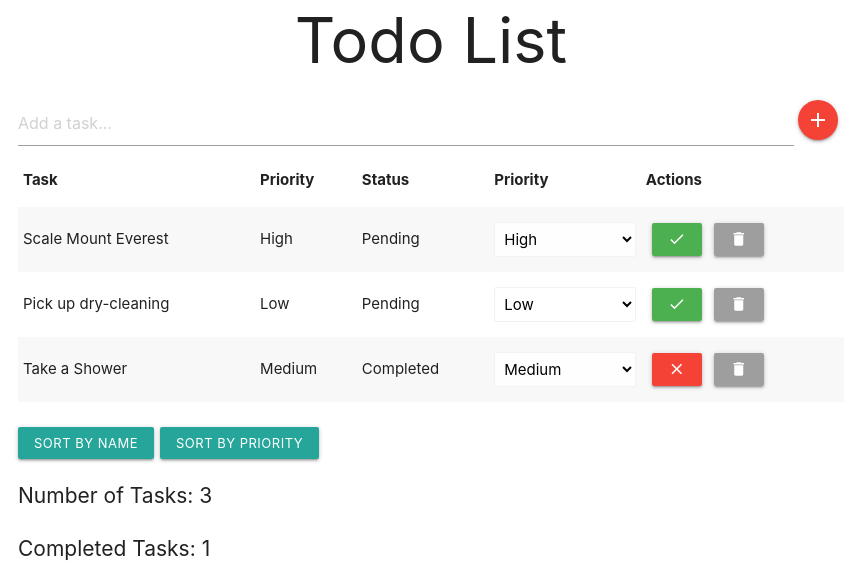
Scenario: App › should remove the correct item from the list when a task is deleted
Step 1. Click the button with id "delete-item" → [739, 240], box [714,223,764,256]
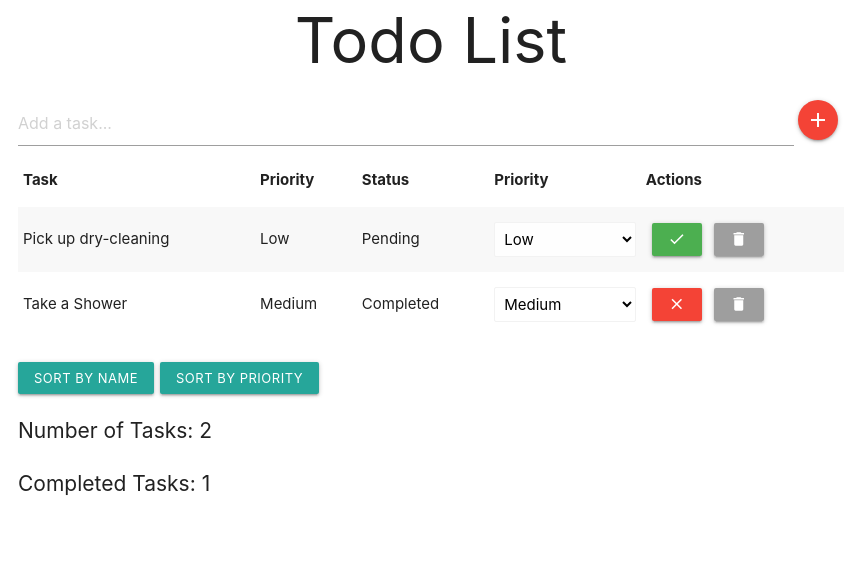
Result: the row "Pick up dry-cleaning Low Pending" is shown at [18,207,844,272]
Result: the row "Take a Shower Medium Completed" is shown at [18,272,844,337]
